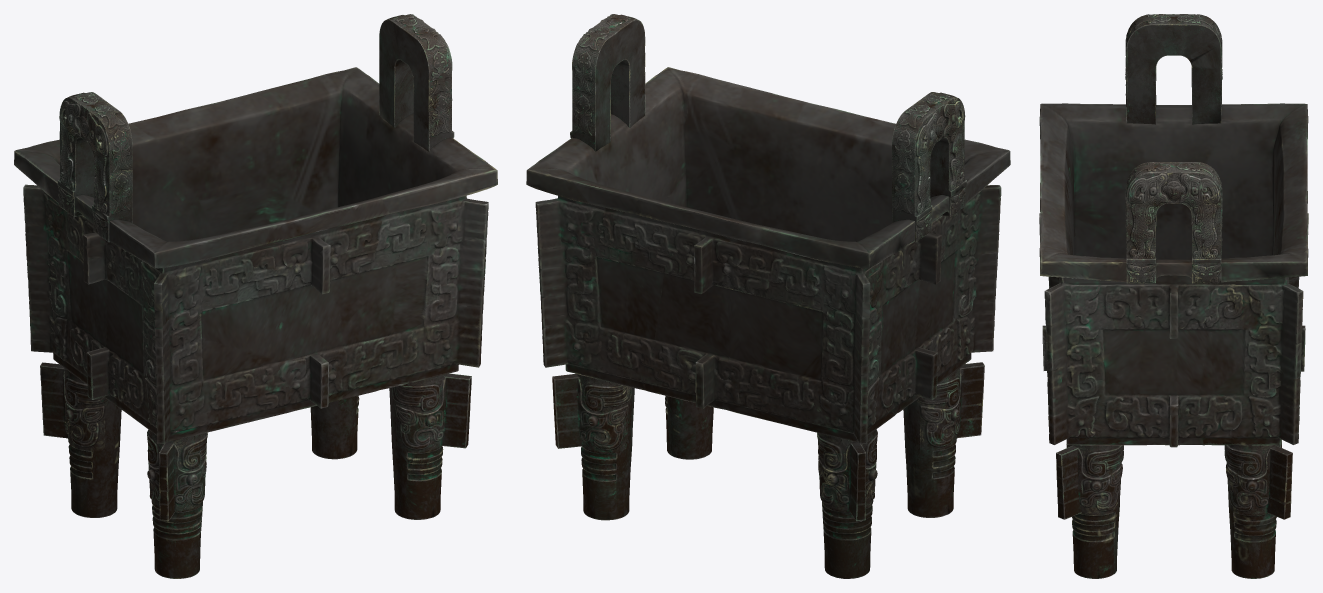
Rendered from ding.glb.
3 views of the same model, side by side, from view 1: azimuth 30°, elevation 25°; view 2: azimuth 150°, elevation 25°; view 3: azimuth 270°, elevation 25° (orthographic). The views are drawn at different scales.
Parts seen in each view (by area): view 1: aiStandardSurface2SG, aiStandardSurface1SG, aiStandardSurface3SG; view 2: aiStandardSurface2SG, aiStandardSurface1SG, aiStandardSurface3SG; view 3: aiStandardSurface2SG, aiStandardSurface3SG, aiStandardSurface1SG.
Part boxes in pixels (box(x1,y1,x2,y2)): aiStandardSurface2SG: box(14, 67, 497, 444); aiStandardSurface1SG: box(40, 362, 471, 578); aiStandardSurface3SG: box(57, 14, 454, 242); aiStandardSurface2SG: box(526, 67, 1010, 444); aiStandardSurface1SG: box(552, 362, 984, 578); aiStandardSurface3SG: box(570, 14, 966, 242); aiStandardSurface2SG: box(1039, 103, 1308, 447); aiStandardSurface3SG: box(1125, 14, 1222, 283); aiStandardSurface1SG: box(1056, 439, 1292, 578).
Bounding box in the file's own units: 13.38 × 16.2 × 9.36.
3 materials, 3 textured.
